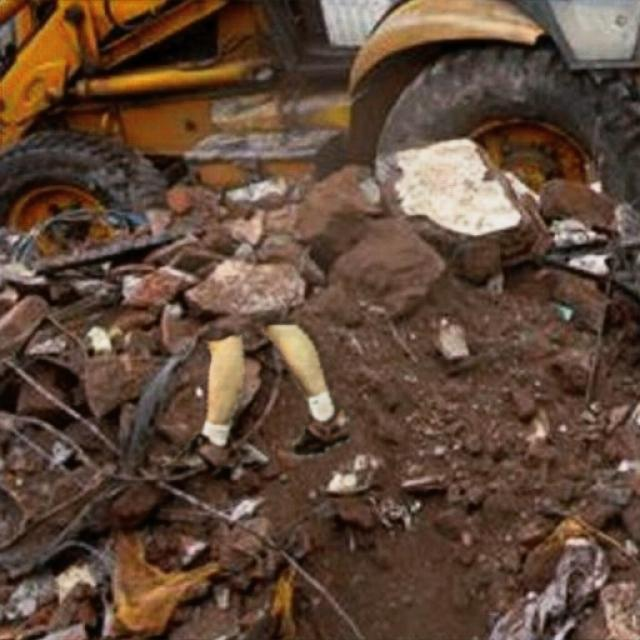Person in Rubble: (162, 325, 348, 465)
